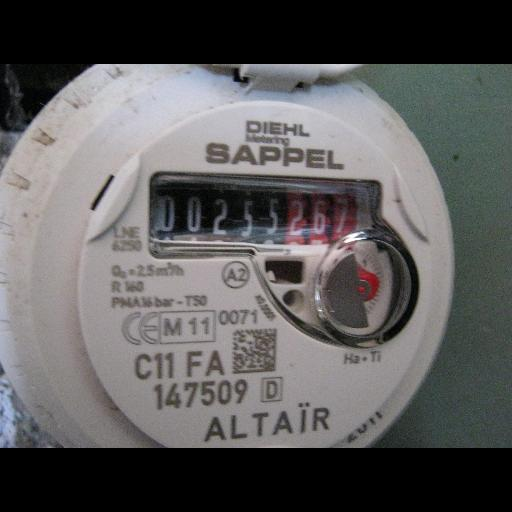0: (157, 188, 180, 240), (183, 189, 205, 241)
2: (210, 190, 233, 242), (286, 193, 307, 246)
5: (236, 190, 258, 243), (262, 192, 282, 245)
6: (309, 193, 329, 245)
7: (331, 194, 353, 242)
border_water_meter_number: (147, 174, 376, 257)
